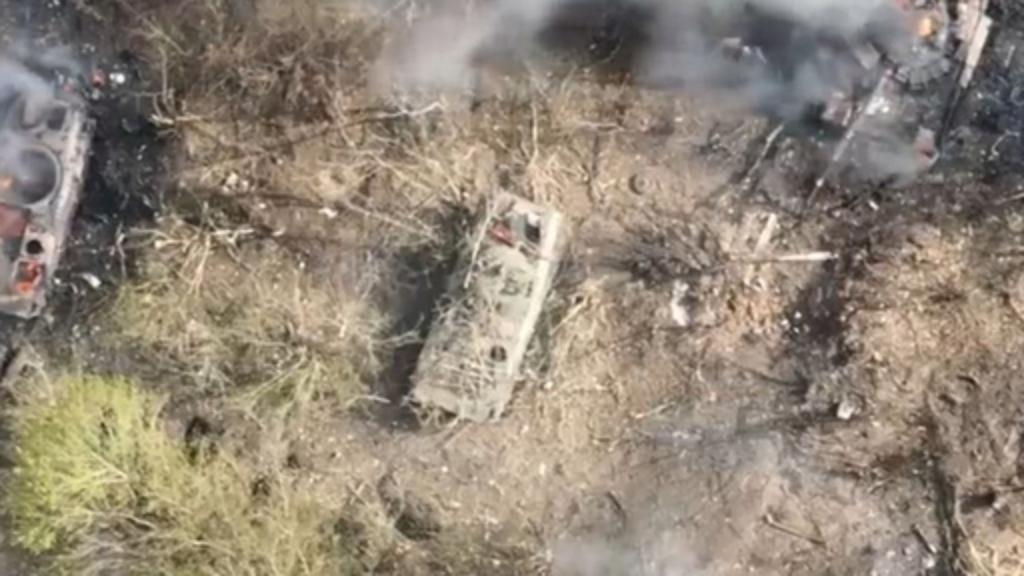APC-IFV: (390, 180, 566, 420)
TANK: (804, 2, 996, 214)
